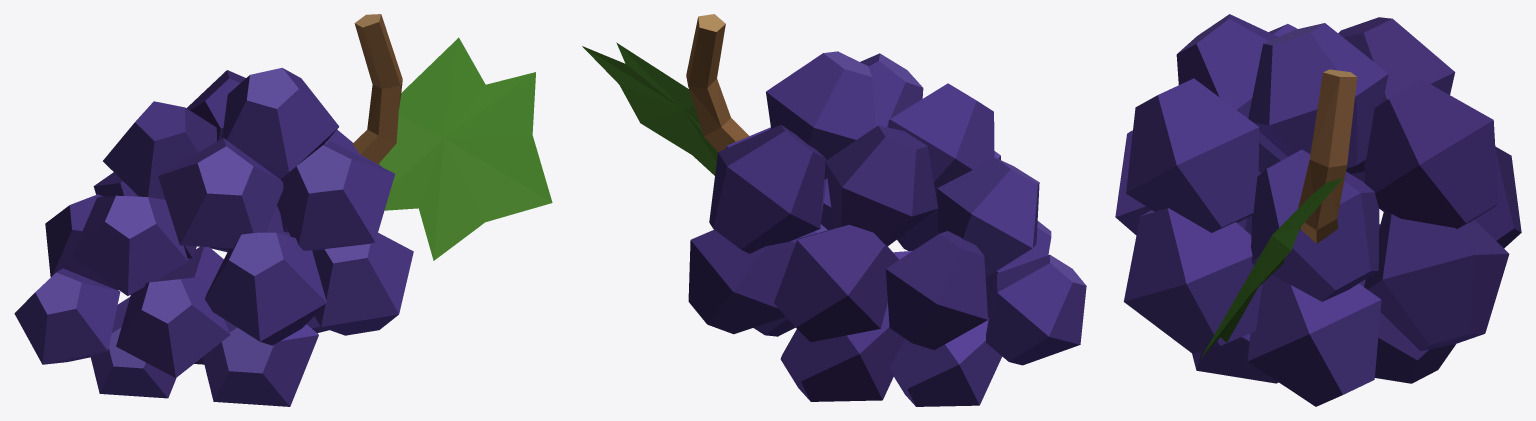
The model's file is FMS_Fruit_Grape.fbx.
3 renders of one model, left to right at view 1: azimuth 30°, elevation 25°; view 2: azimuth 150°, elevation 25°; view 3: azimuth 270°, elevation 25°, orthographic. The views are drawn at different scales.
Visible parts, largest first — view 1: item_produce_grape; view 2: item_produce_grape; view 3: item_produce_grape.
Boxes of the visible parts, bbox=[...] form: item_produce_grape: bbox=[14, 14, 552, 406]; item_produce_grape: bbox=[582, 14, 1086, 406]; item_produce_grape: bbox=[1115, 14, 1521, 406].
Bounding box in the file's own units: 0.1185 × 0.072 × 0.0692.
1 material, 1 textured.
